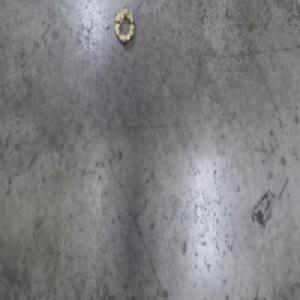Nut: (114, 7, 135, 46)
